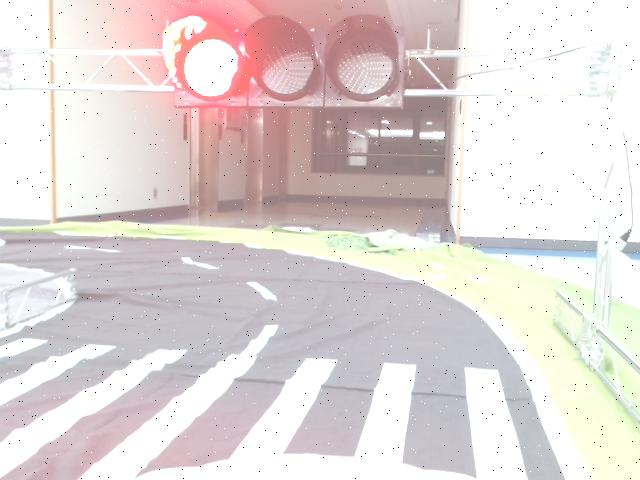crosswalk: (0, 337, 532, 480)
traffic light-red-: (166, 15, 404, 106)
